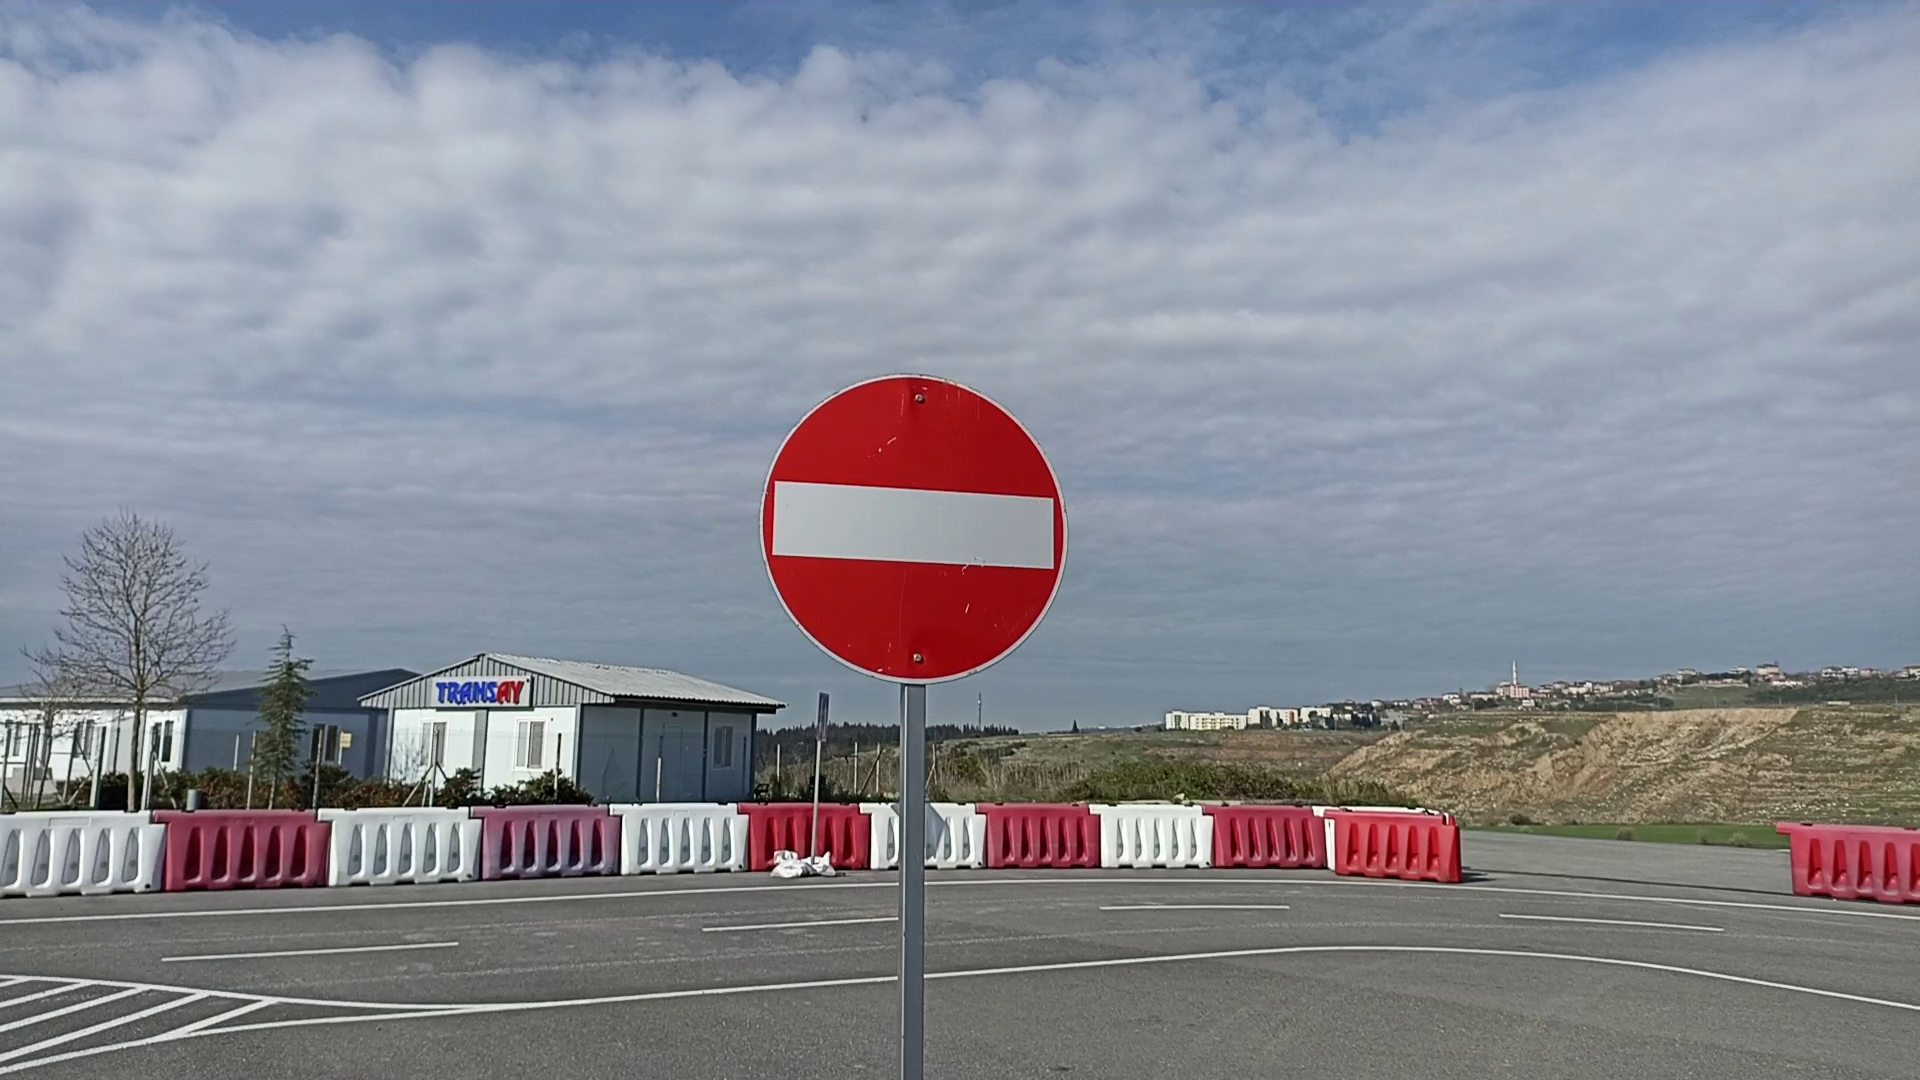noentryway: (756, 364, 1073, 691)
